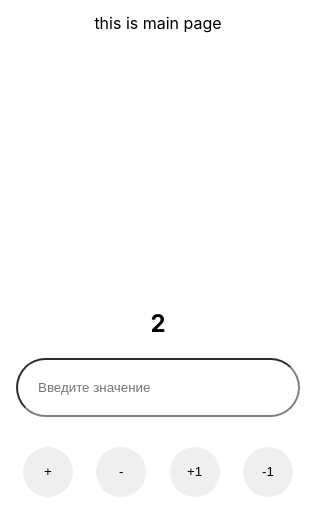
test for counter › decrement
Expected: the heading with test id "counter-value" reads "2", [150, 309, 166, 338]
Click the button with test id "minus". click: [268, 472]
box: [243, 447, 293, 497]
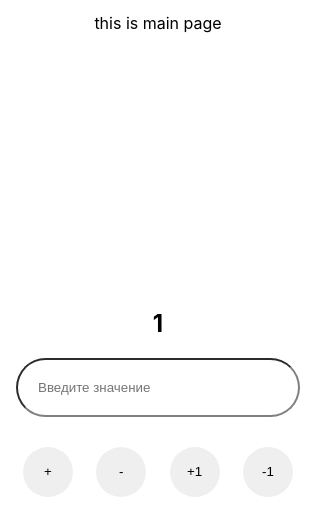
Now the heading with test id "counter-value" reads "1", box [153, 309, 163, 338]
Click the button with test id "minus". click: [268, 472]
box: [243, 447, 293, 497]
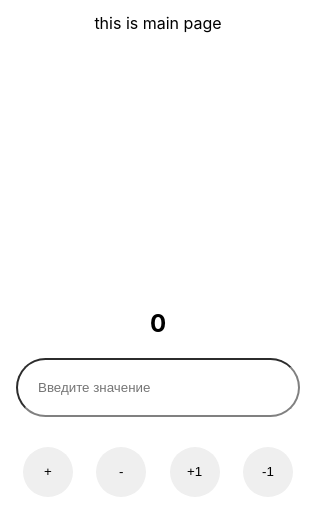
Now the heading with test id "counter-value" reads "0", box [150, 309, 166, 338]
